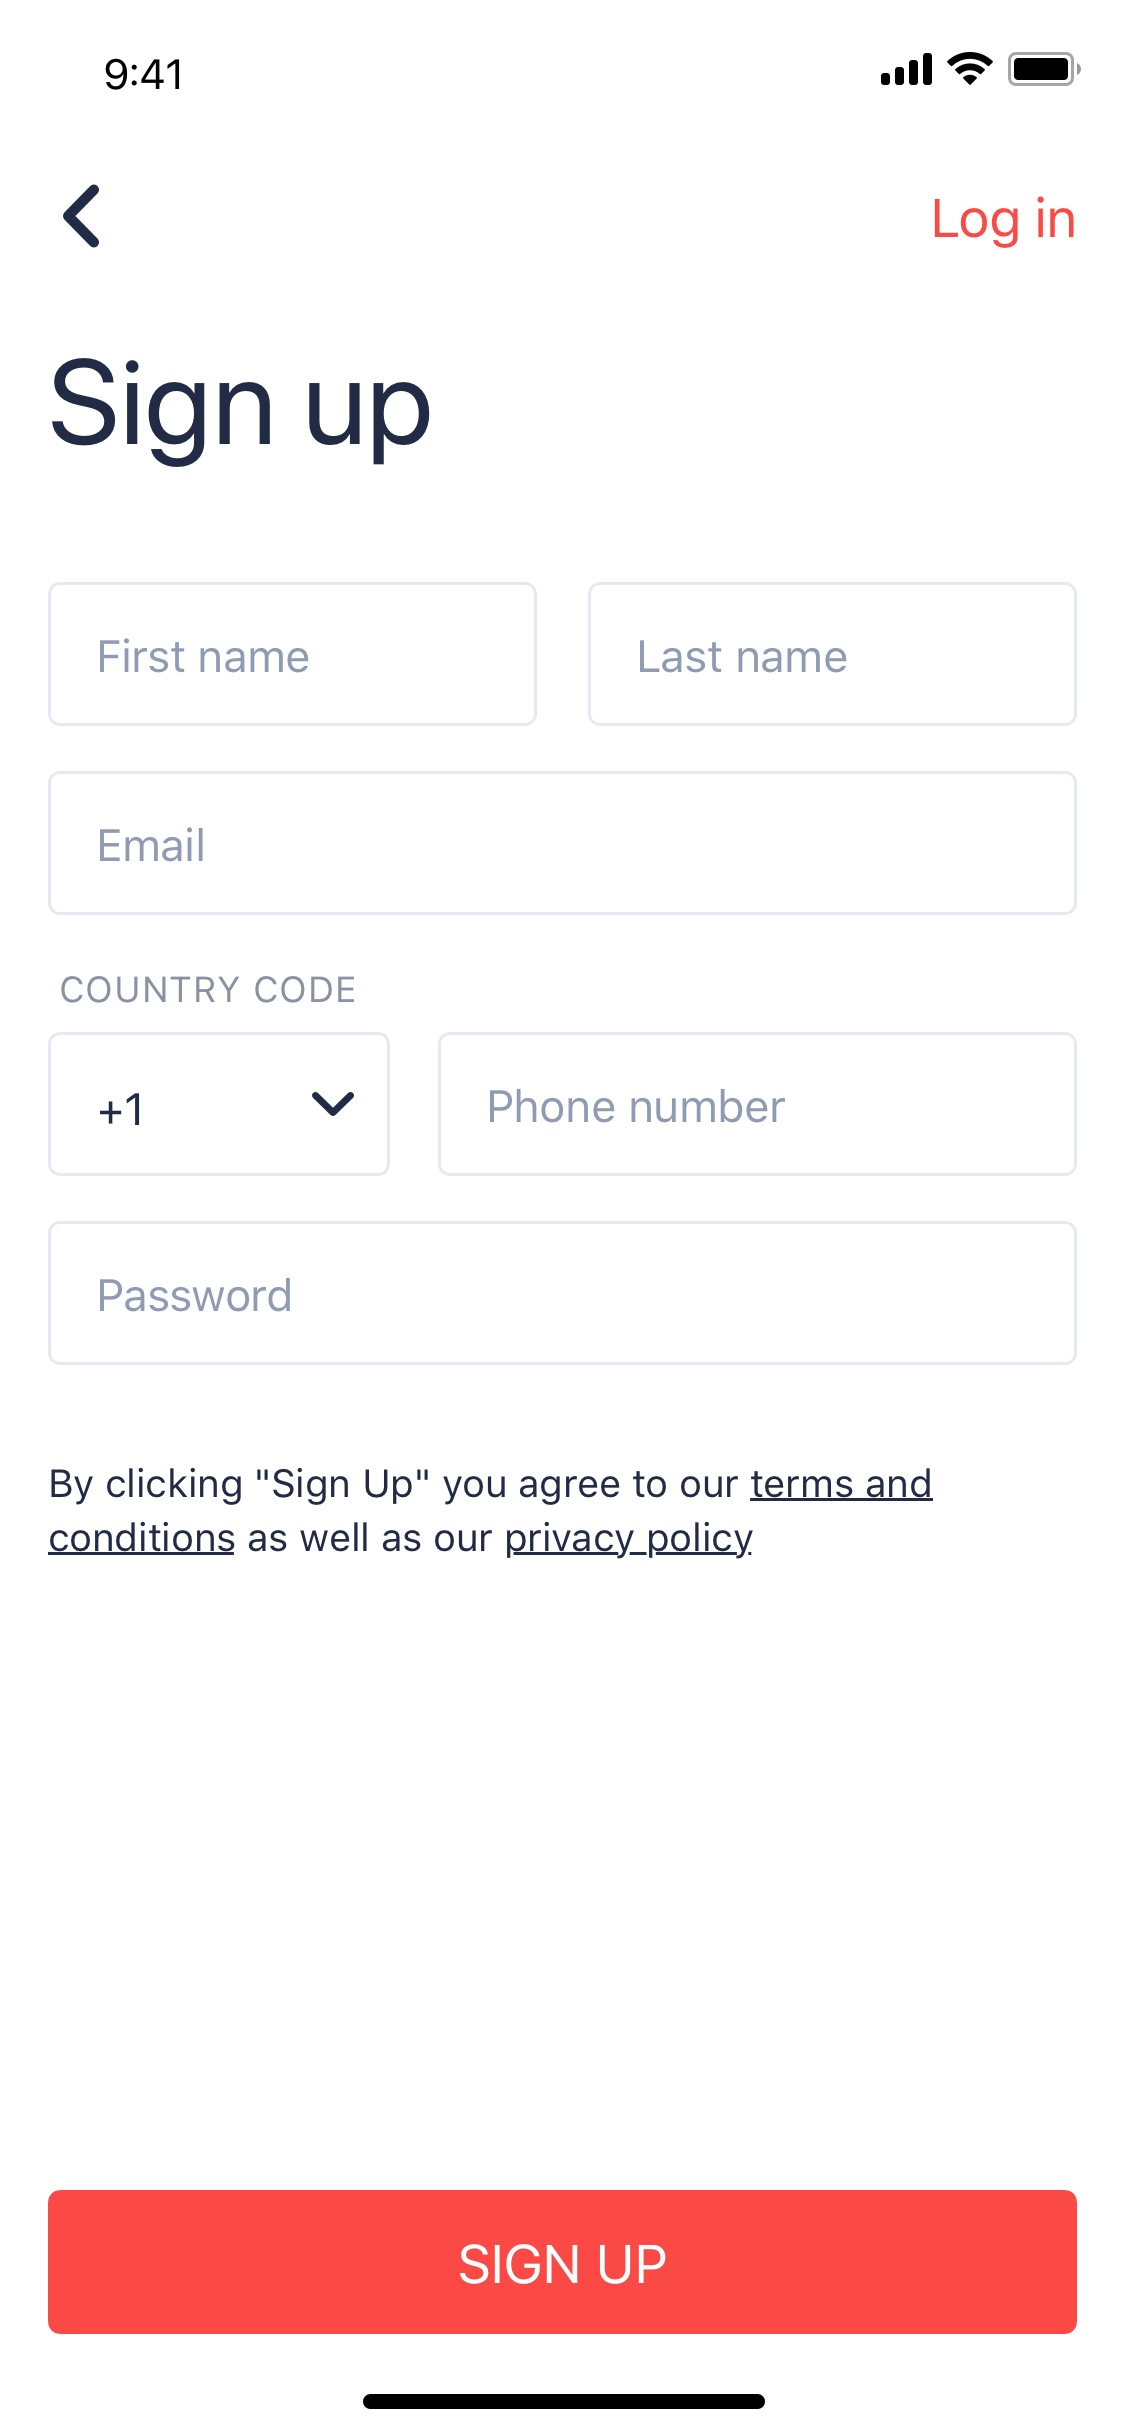EditText: (50, 771, 1077, 917), (50, 1221, 1078, 1366), (438, 1032, 1077, 1178), (587, 583, 1077, 727), (50, 583, 538, 727), (50, 1032, 392, 1178)
Icon: (64, 183, 101, 249), (312, 1091, 354, 1119)
Text: (50, 1467, 934, 1560), (51, 357, 430, 469), (489, 1089, 786, 1123), (61, 976, 356, 1005), (934, 196, 1074, 250), (99, 639, 311, 674), (639, 640, 847, 674), (99, 1277, 292, 1313), (99, 826, 204, 862), (101, 1092, 141, 1126)
TextButton: (48, 2189, 1078, 2333)
UpperTaskBar: (106, 51, 1081, 92)
